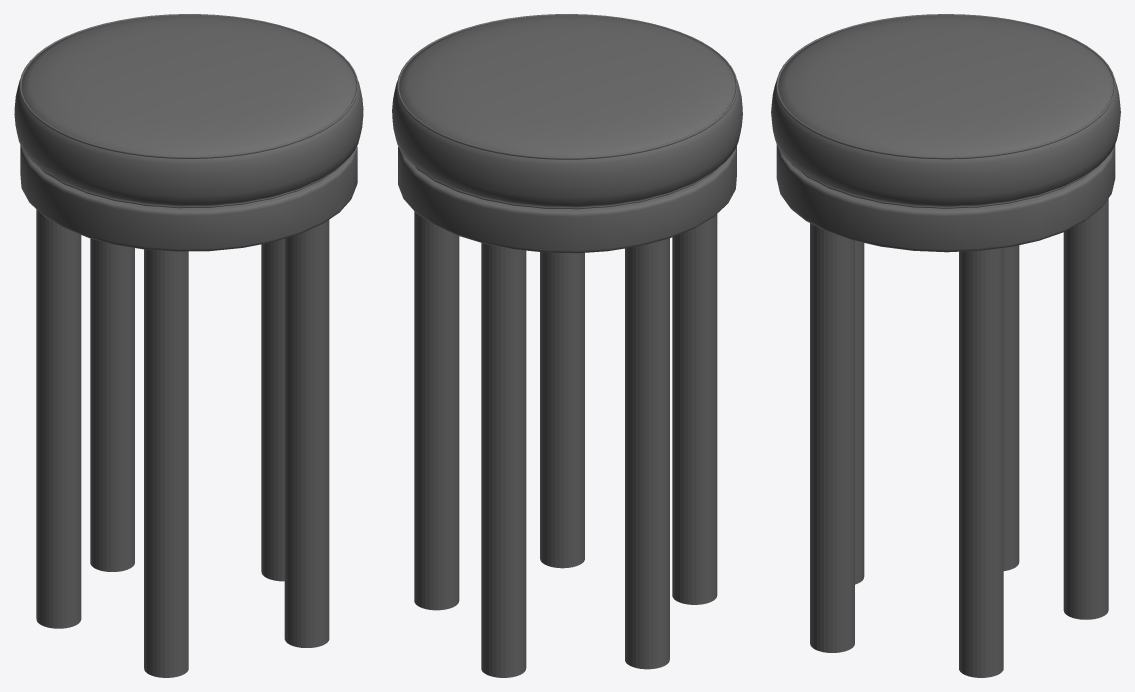
Rendered from banco.obj.
3 renders of one model, left to right at view 1: azimuth 30°, elevation 25°; view 2: azimuth 150°, elevation 25°; view 3: azimuth 270°, elevation 25°, orthographic.
Visible parts, largest first — view 1: banco:MeshpolySurface10; view 2: banco:MeshpolySurface10; view 3: banco:MeshpolySurface10.
Boxes of the visible parts, x1=… form: banco:MeshpolySurface10: x1=14, y1=14, x2=363, y2=677; banco:MeshpolySurface10: x1=392, y1=14, x2=742, y2=677; banco:MeshpolySurface10: x1=771, y1=14, x2=1120, y2=677.
Size of the model in its own units: 0.5456 by 0.9287 by 0.5456.
